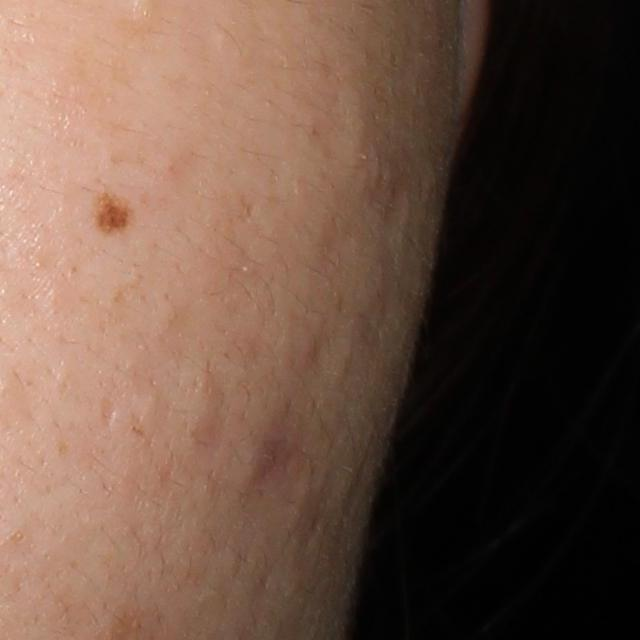atrophic_scar: (97, 394, 115, 427)
nevus: (91, 191, 134, 237)
